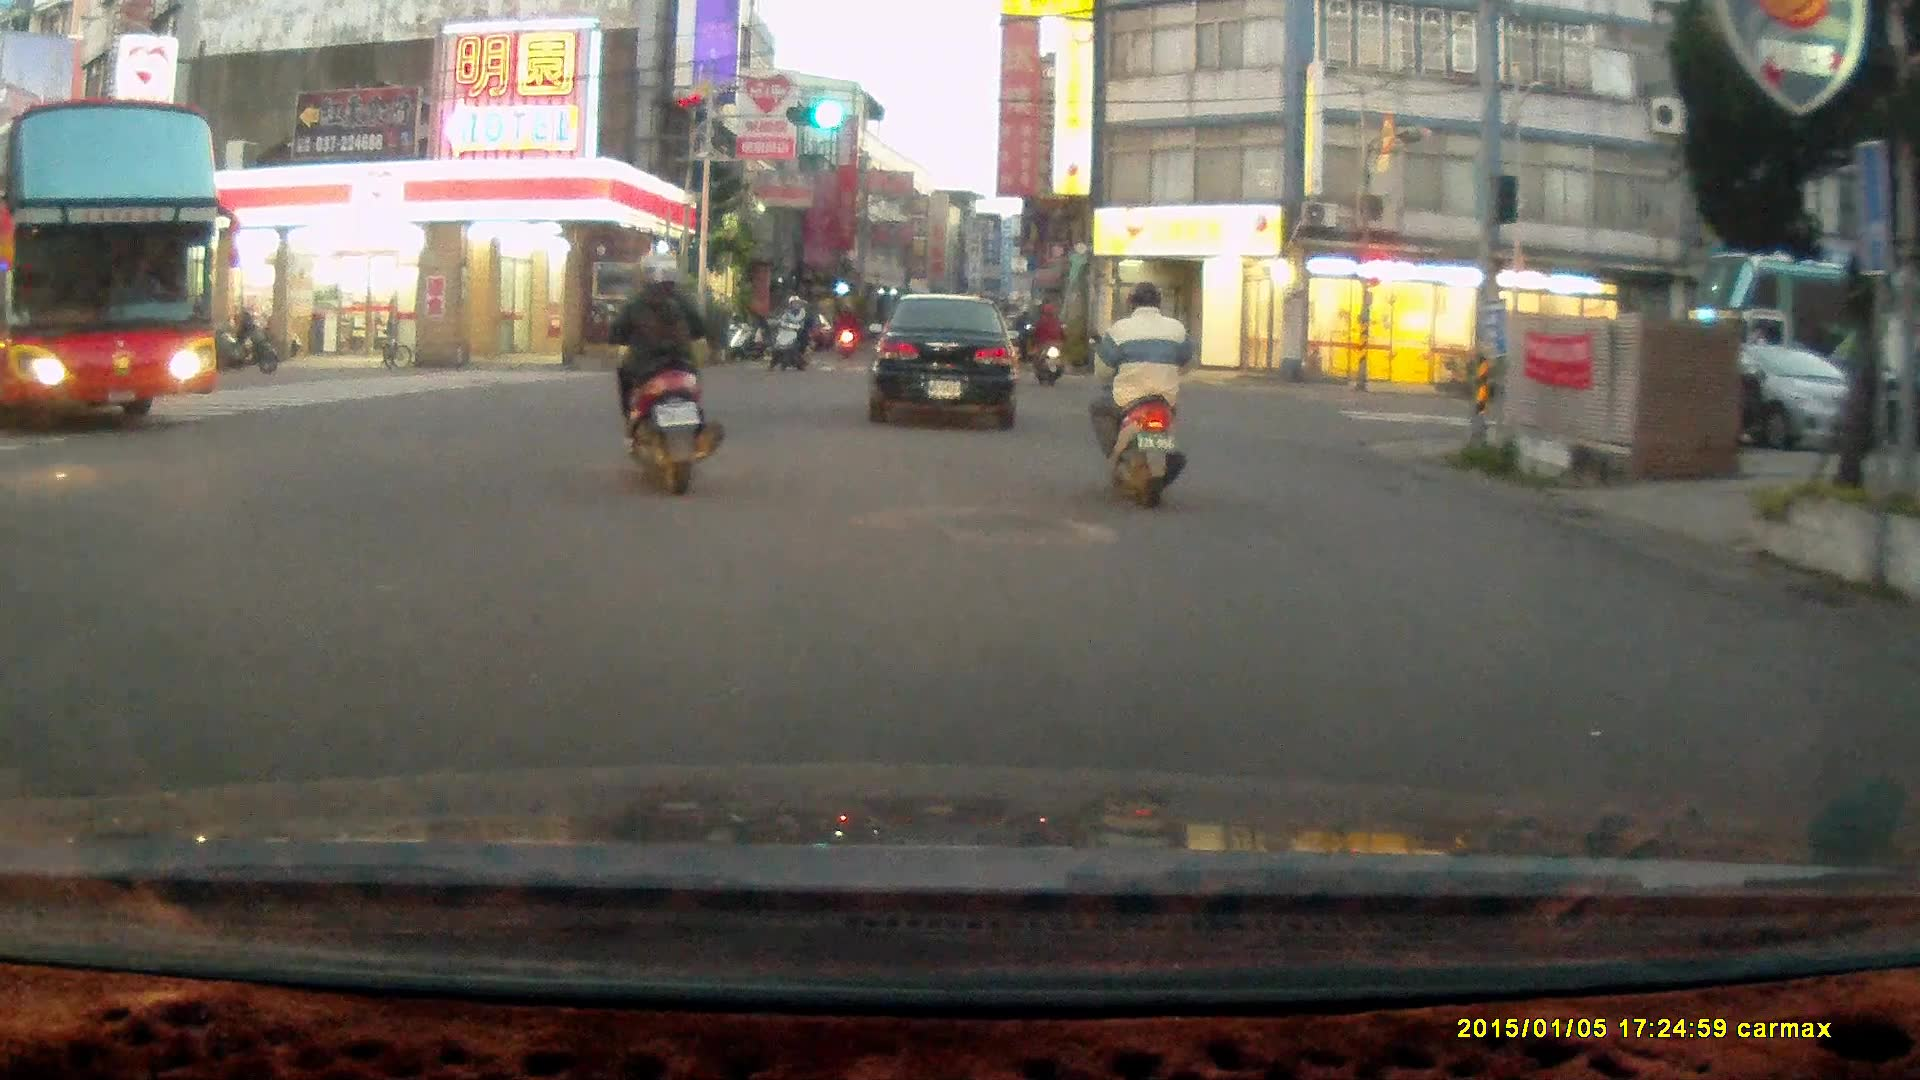rider: (596, 249, 726, 493), (1083, 280, 1198, 511), (1027, 296, 1066, 388), (765, 292, 808, 371)
vehicle: (1, 98, 224, 425), (1614, 339, 1895, 459), (876, 290, 1021, 430)
